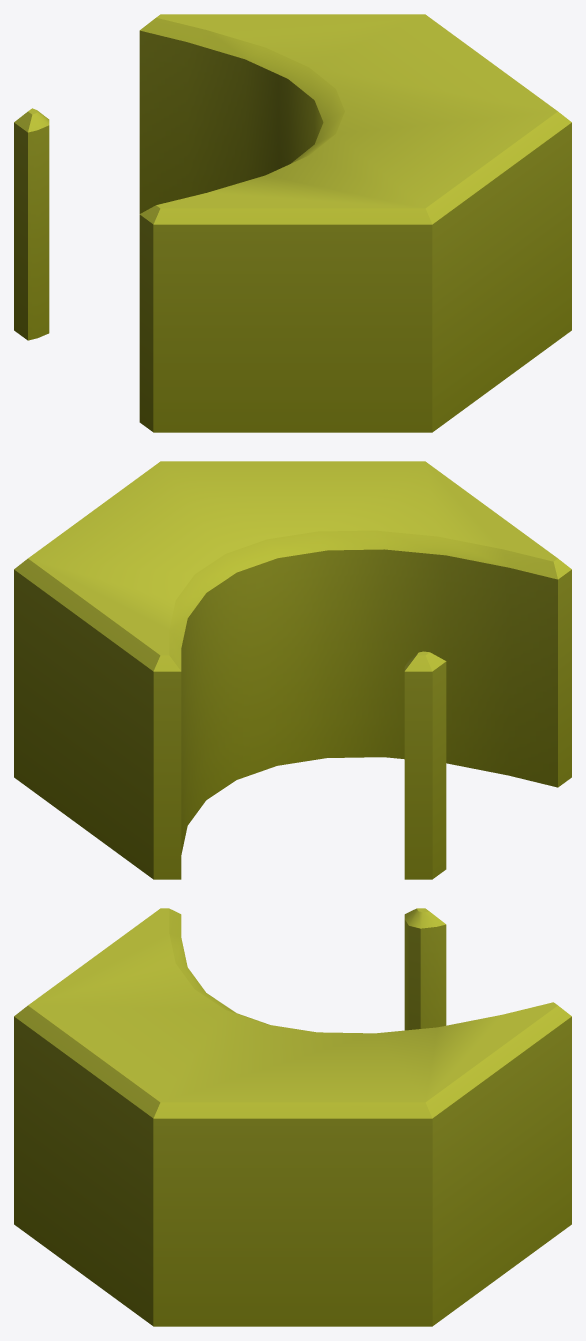
Rendered from hex_river_C_waterless.glb.
3 renders of one model, top to bottom at view 1: azimuth 30°, elevation 25°; view 2: azimuth 150°, elevation 25°; view 3: azimuth 270°, elevation 25°, orthographic.
Parts seen in each view (by area): view 1: hex_river_C_waterless; view 2: hex_river_C_waterless; view 3: hex_river_C_waterless.
Boxes of the visible parts, x1,y1,x2,y2 form: hex_river_C_waterless: (14, 14, 571, 432); hex_river_C_waterless: (14, 461, 571, 879); hex_river_C_waterless: (14, 908, 571, 1326).
Size of the model in its own units: 2 by 1 by 2.31.
1 material, 1 textured.
